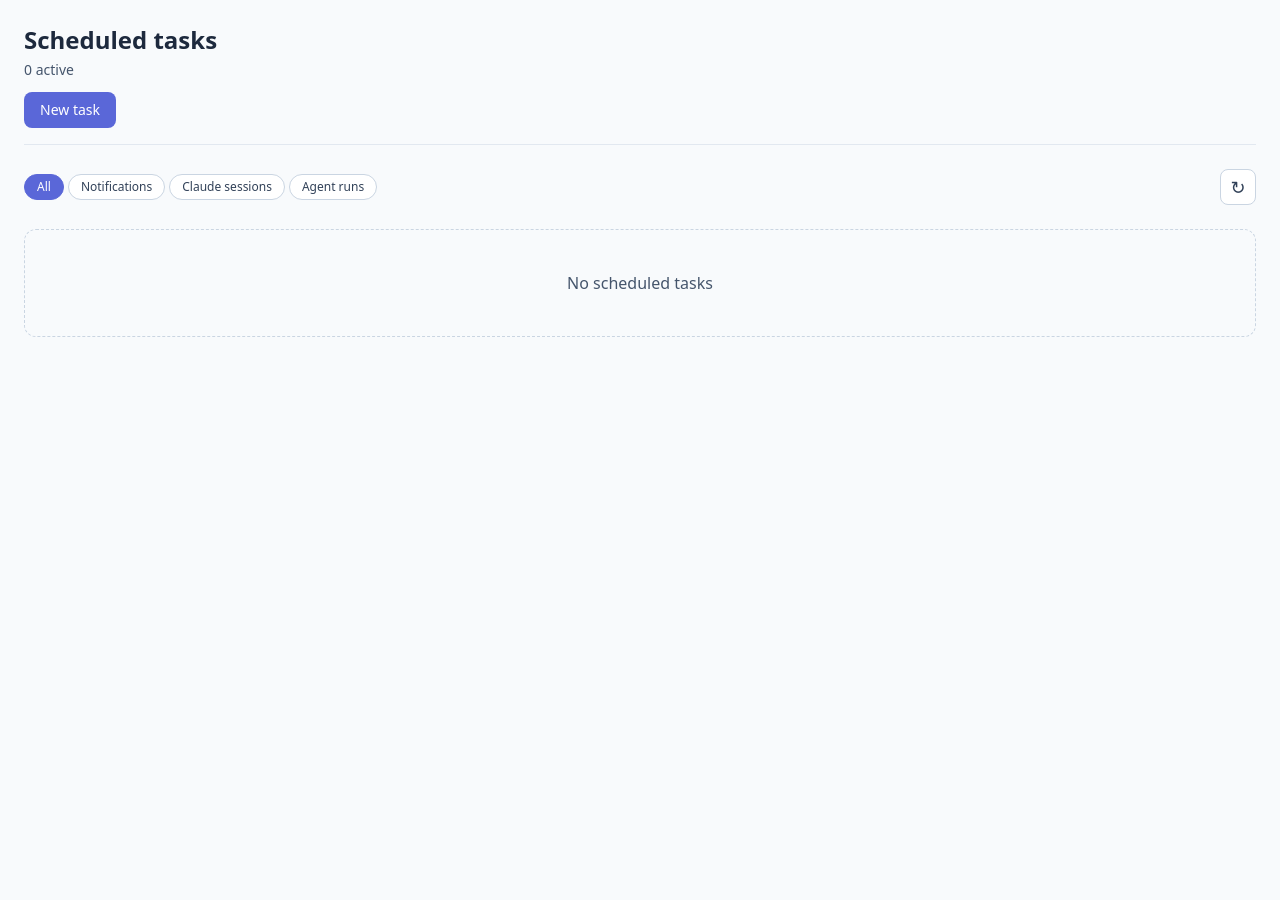
Test: ScheduledTasks › offers the Claude session task type while claude_containers is on
Expected: the text "No scheduled tasks" is shown, [567,272,713,294]
Step 1. Click the button "New task" → {"x": 70, "y": 110}, box [24,92,116,128]
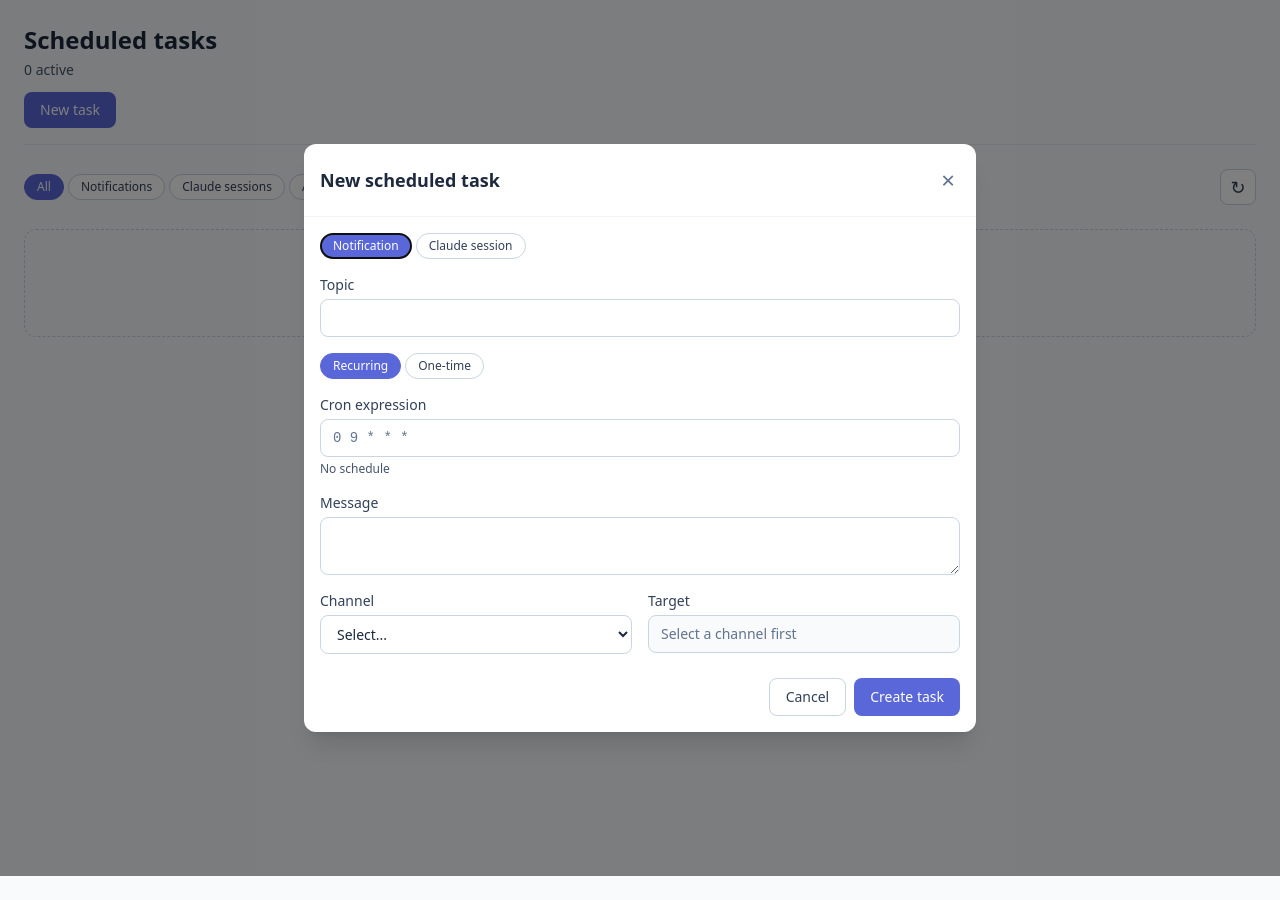
Expected: the button "Claude session" is shown, [416,233,526,259]
